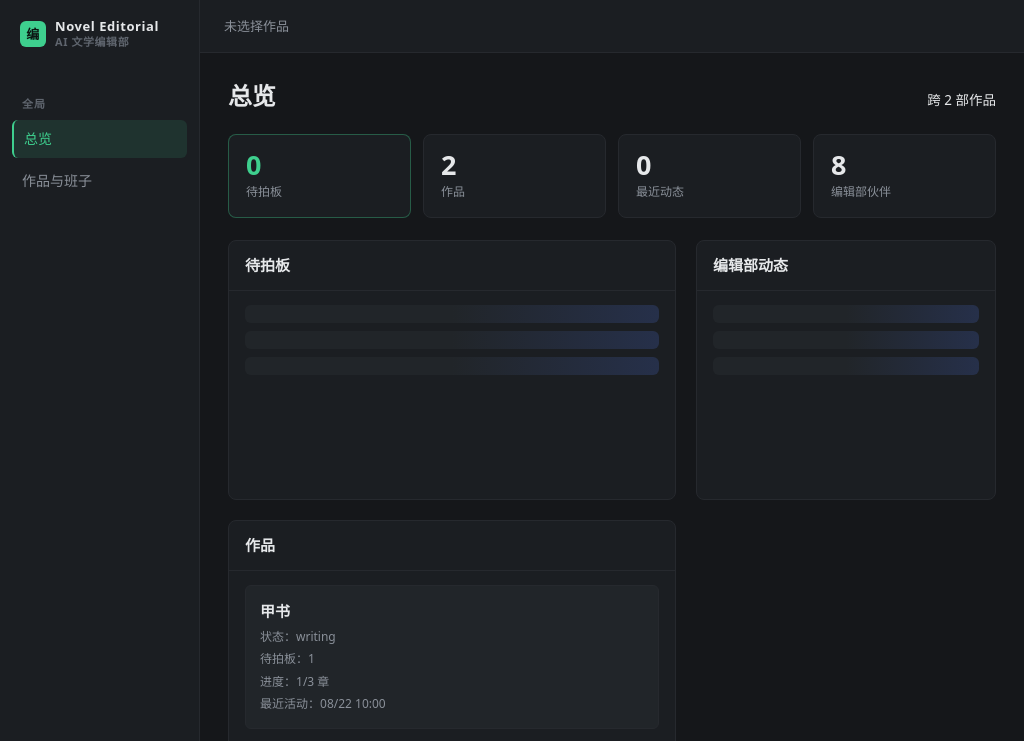
Test: App three-window panel › does not render stale draft versions while the next draft is loading
What coordinates should you click on to do the following:
click the button with test id "workspace-card" that starts with "状态："
I would click on:
 (275, 611)
Its box is [245,585,659,729].
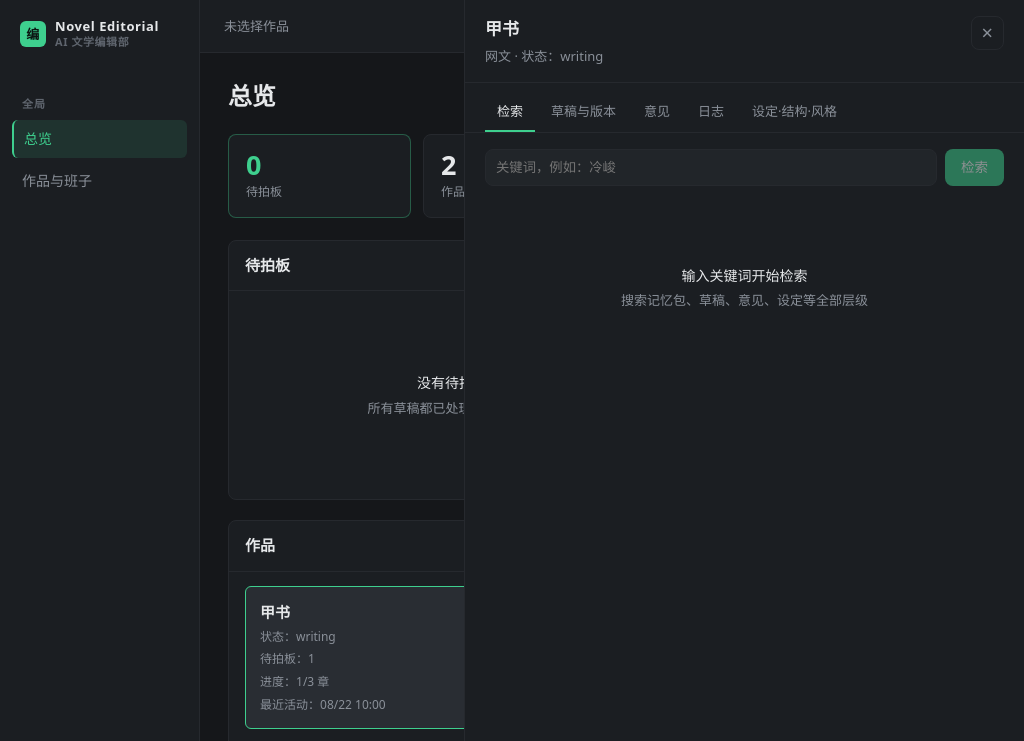
What coordinates should you click on to do the following:
click the tab "草稿与版本"
I would click on:
 (584, 113)
Its box is [539,94,628,132].
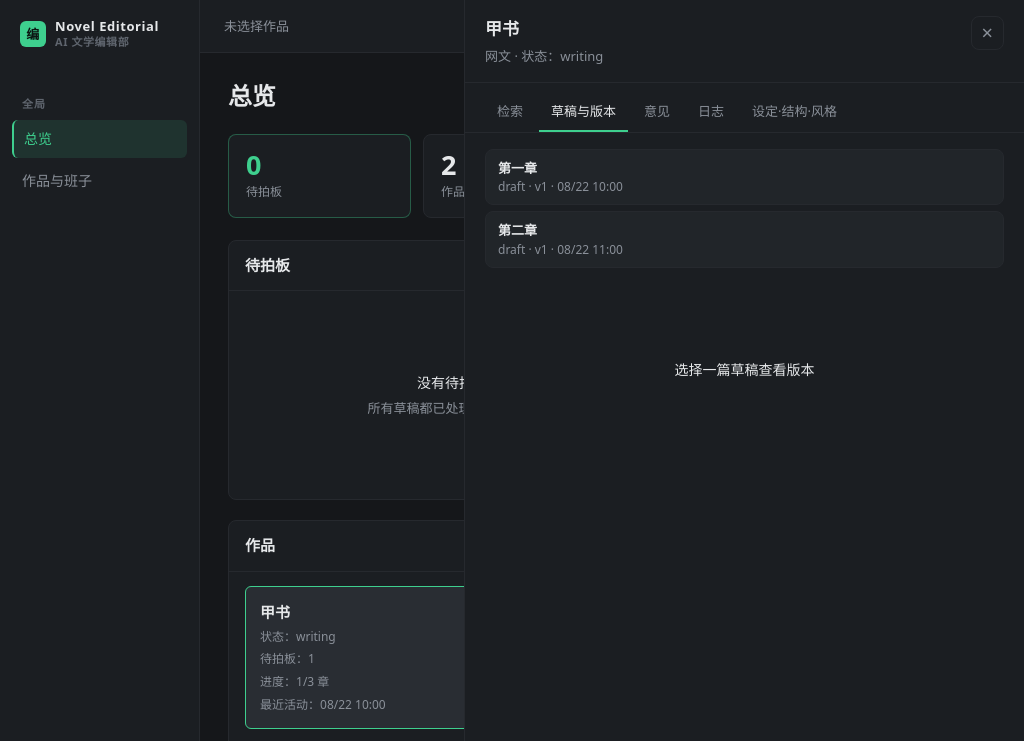
What coordinates should you click on to do the following:
click the button "第一章 draft · v1 · 08/22 10:00"
I would click on:
 (518, 168)
Its box is [485,149,1004,205].
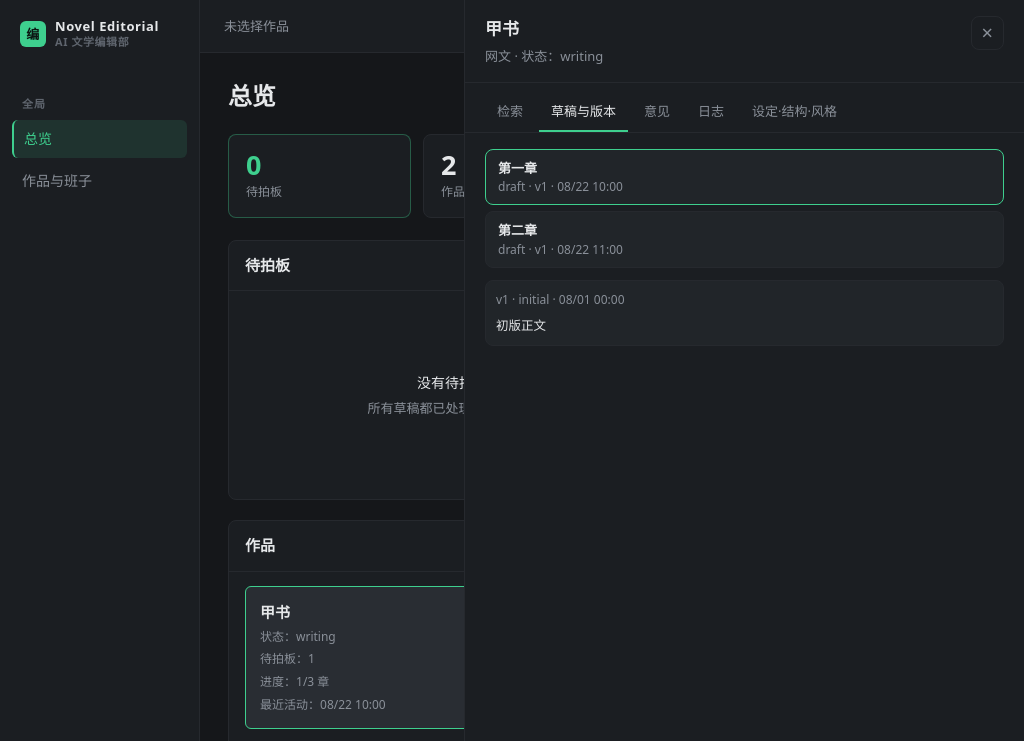
expect the list with test id "draft-versions" shows "初版正文": met, box [496,318,546,333]
What coordinates should you click on to do the following:
click the button "第二章 draft · v1 · 08/22 11:00"
I would click on:
 (518, 230)
Its box is [485,211,1004,268].
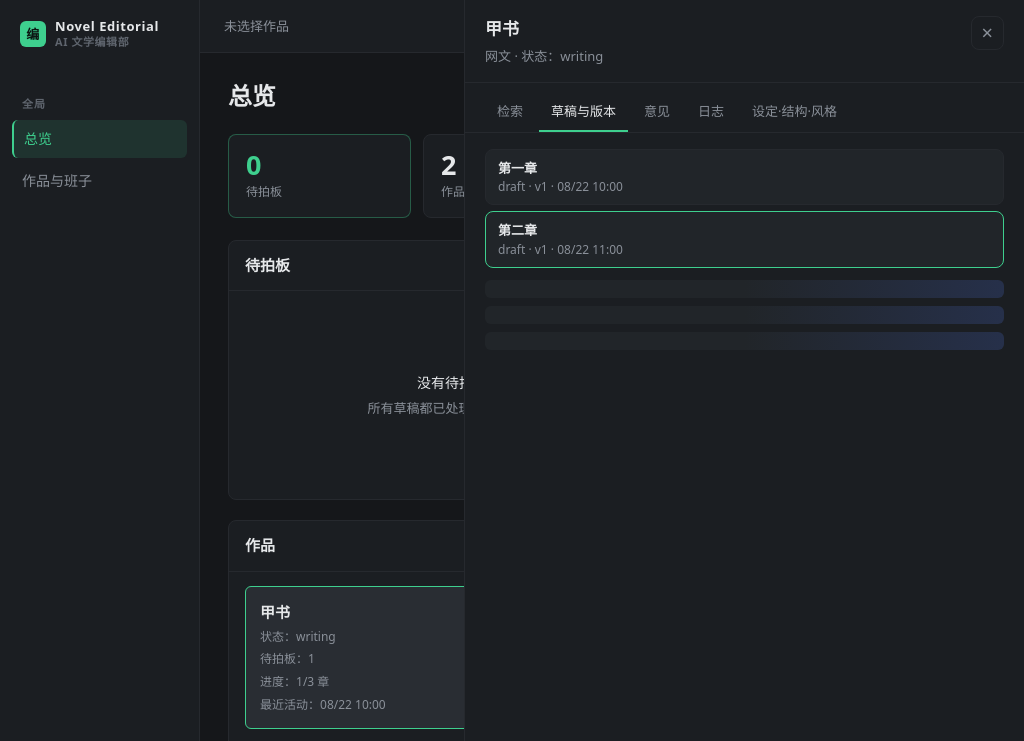
expect the list with test id "draft-versions" is gone: met
expect the text "初版正文" is gone: met
